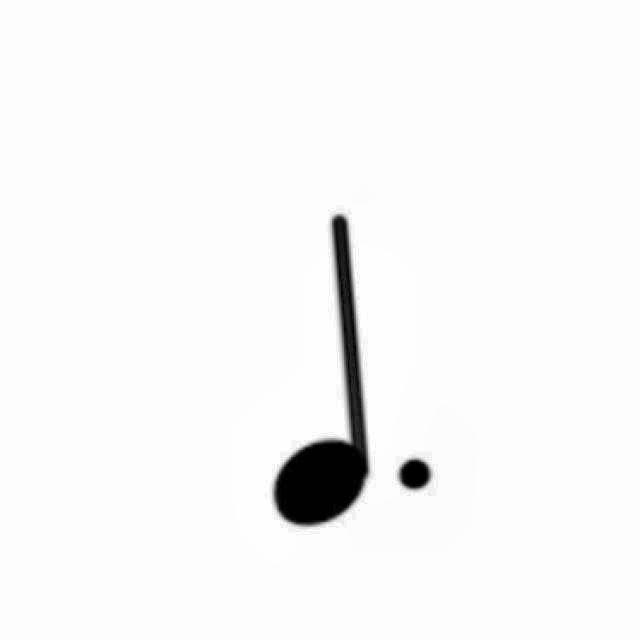Quarter-dot: (260, 207, 438, 536)
